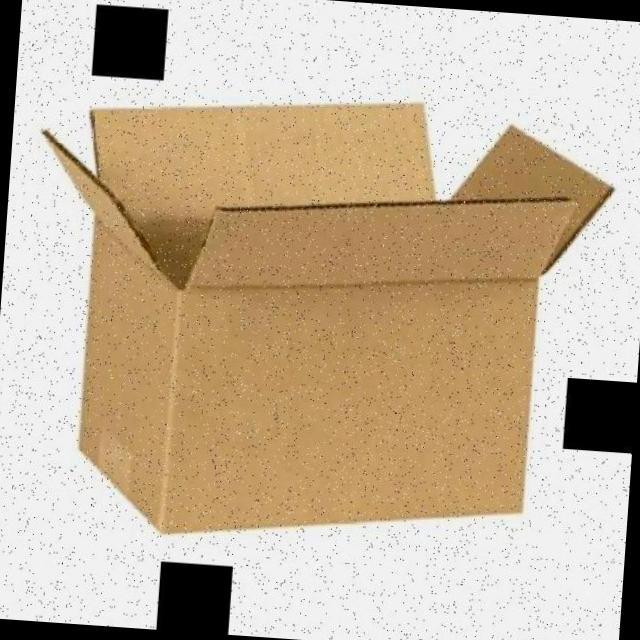box: (1, 69, 632, 572)
